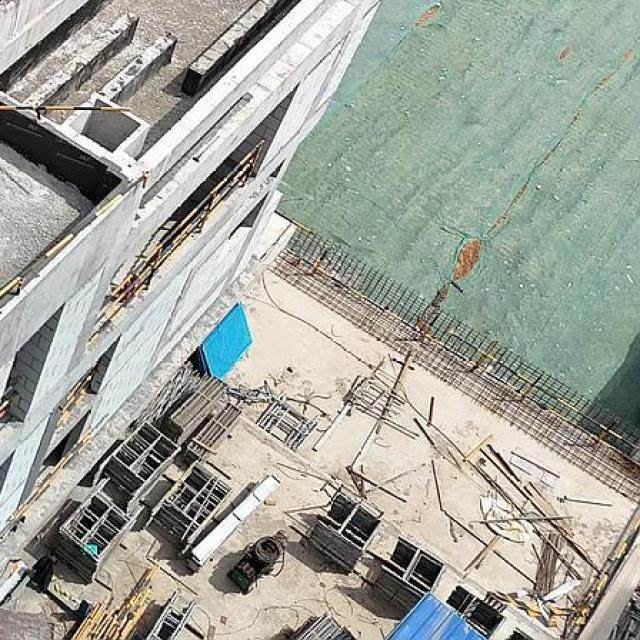edge_guardrail: (273, 208, 640, 469), (86, 136, 267, 344), (0, 169, 151, 299), (14, 427, 93, 520), (55, 367, 95, 432), (0, 104, 131, 119), (0, 383, 14, 420)
